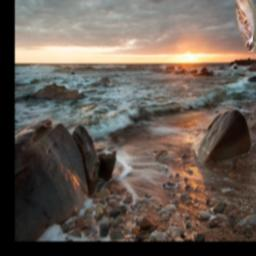Sparrow: (228, 0, 256, 53)
